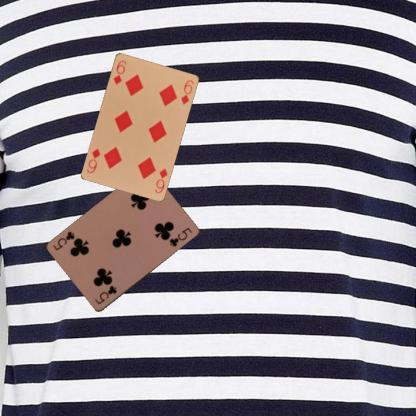5c: (92, 283, 118, 306)
6d: (111, 57, 128, 86), (152, 166, 169, 194)
